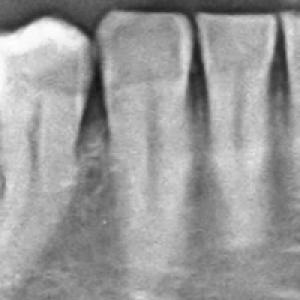tooth: (0, 12, 92, 266), (98, 7, 192, 247), (194, 10, 279, 222)
